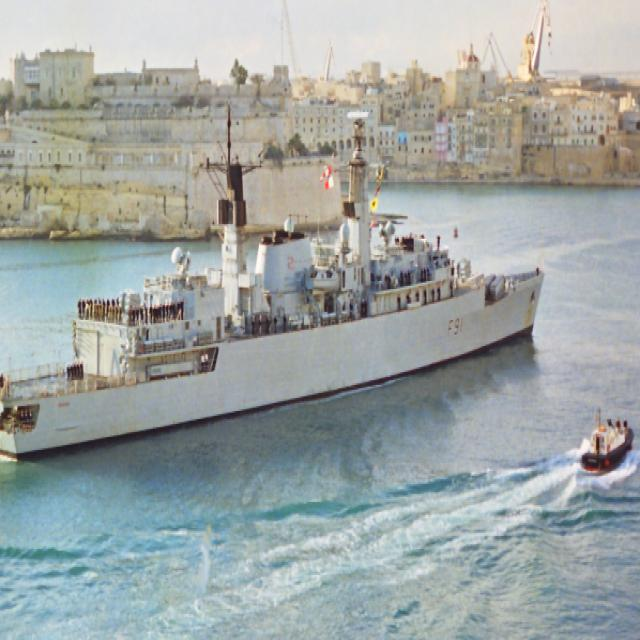Fragata: (1, 102, 548, 469)
